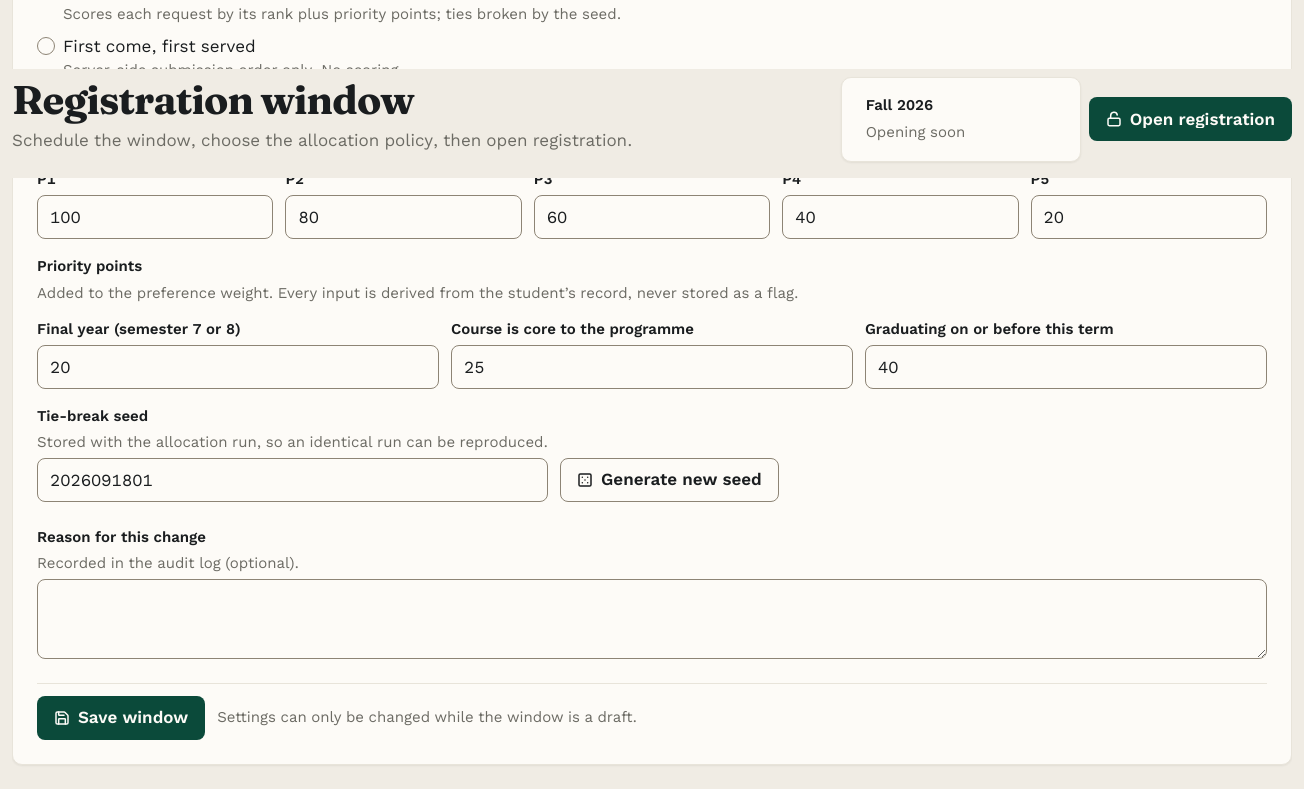
Test: RegistrationWindowPage › generates a new tie-break seed
(page scrolled)
Click the button "Generate new seed". click: (669,480)
box: [560, 458, 779, 502]
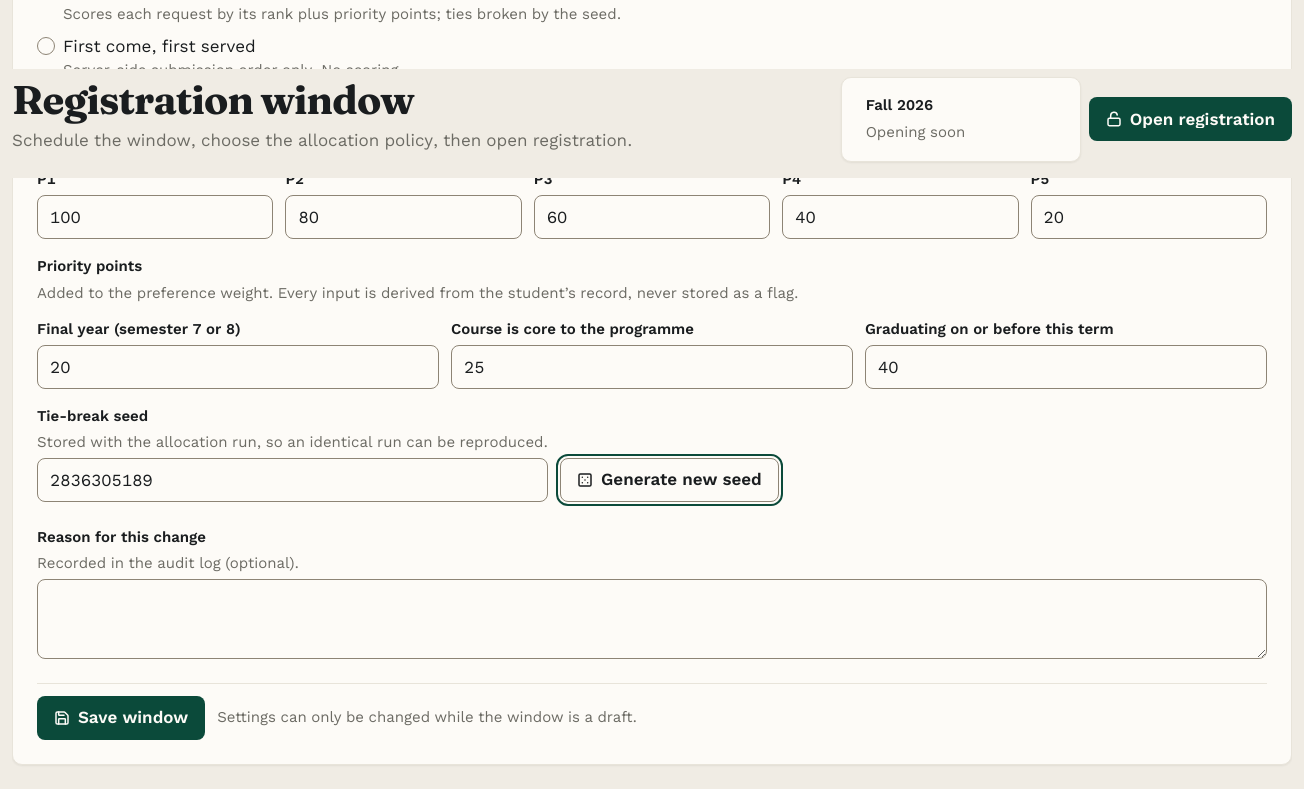
Result: the number field labelled "Tie-break seed" does not hold "2026091801" at [37, 458, 548, 502]
